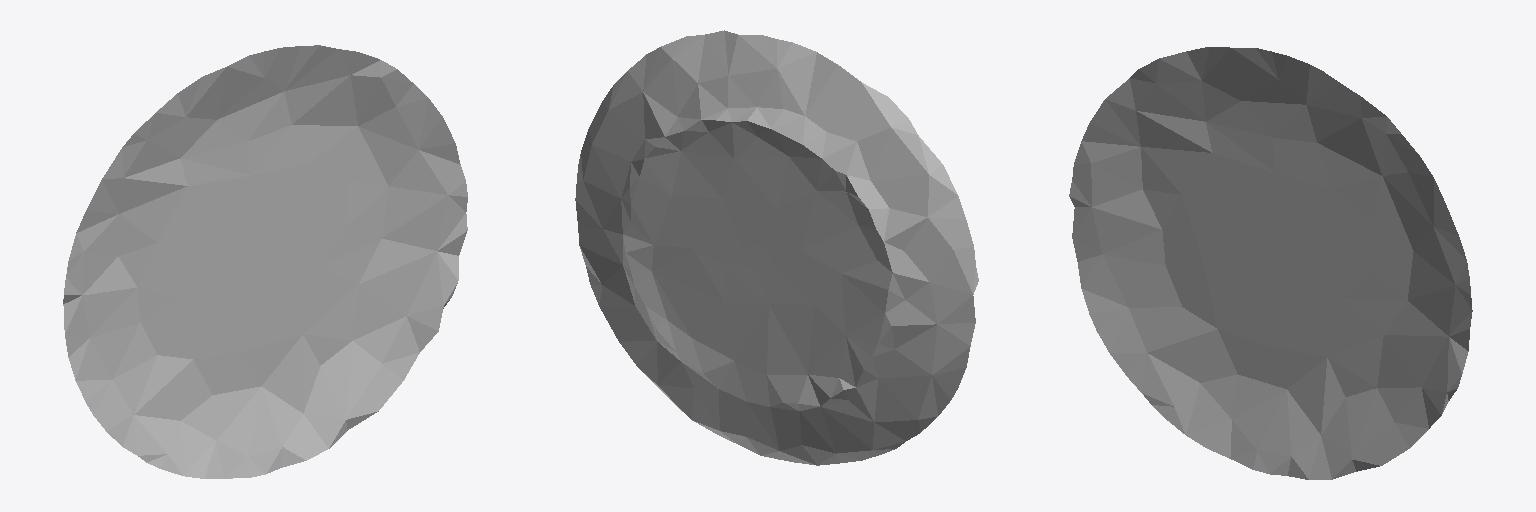
File: ikea_dinera_plate_8in_500.obj
3 views of the same model, side by side, from view 1: azimuth 30°, elevation 25°; view 2: azimuth 150°, elevation 25°; view 3: azimuth 330°, elevation 25° (orthographic).
Size of the model in its own units: 0.1956 by 0.1954 by 0.0181.